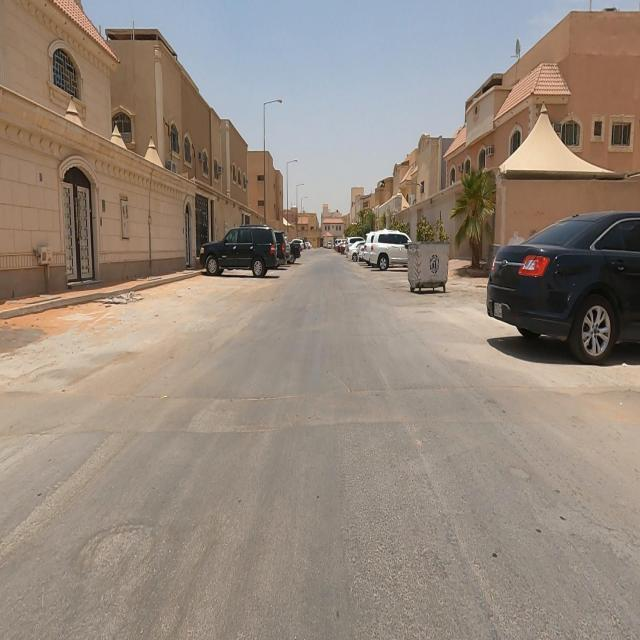debris: (74, 263, 172, 338)
